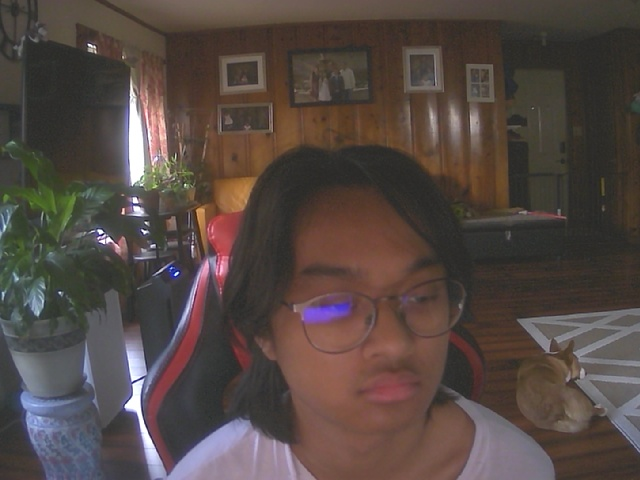neutral: (244, 146, 471, 441)
